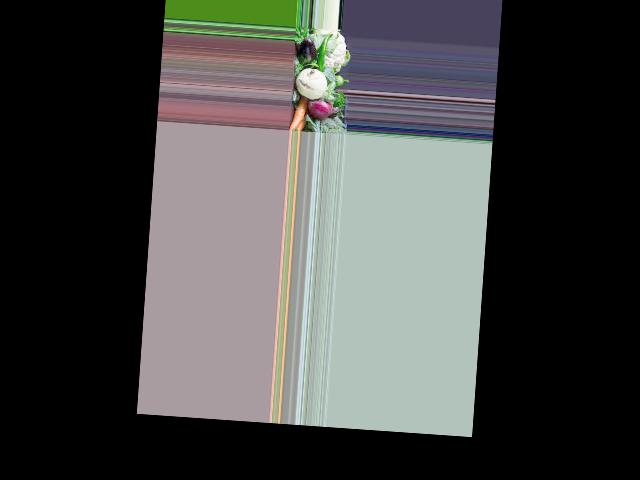carrot: (288, 102, 310, 132)
